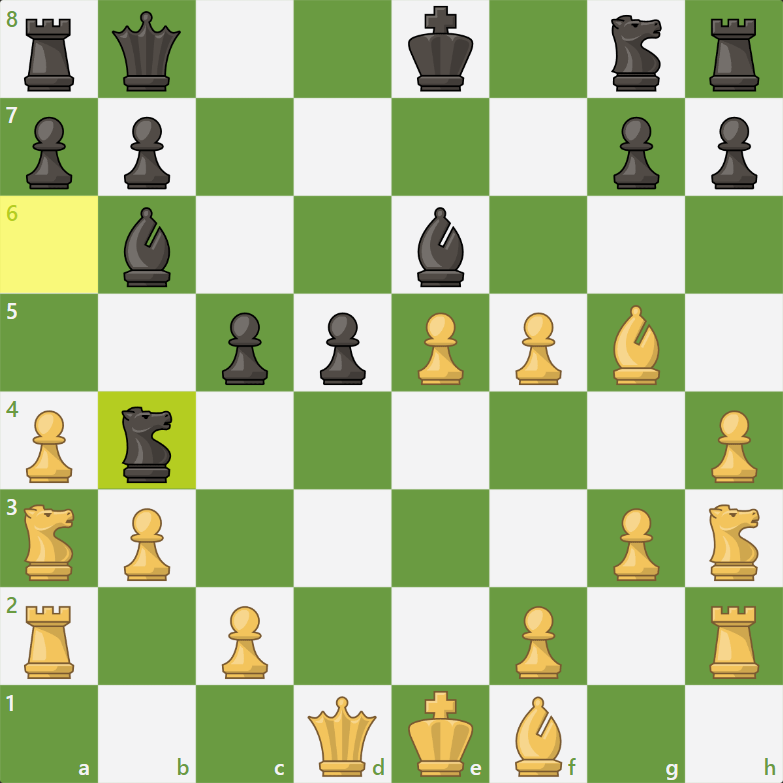B: (510, 695, 567, 781), (609, 303, 664, 387)
K: (407, 688, 475, 779)
N: (703, 501, 766, 584), (19, 503, 79, 583)
P: (219, 603, 272, 682), (709, 408, 762, 486), (512, 311, 566, 387), (414, 310, 468, 386), (122, 506, 173, 584), (514, 605, 566, 681), (611, 506, 662, 583), (23, 410, 75, 485)
Q: (307, 694, 379, 779)
R: (19, 603, 81, 682), (705, 603, 766, 682)
b: (411, 205, 471, 290), (119, 204, 174, 289)
k: (405, 3, 476, 94)
n: (605, 11, 669, 94), (116, 404, 179, 486)
p: (219, 310, 270, 387), (317, 309, 368, 386), (610, 114, 661, 191), (708, 114, 759, 191), (121, 113, 172, 190), (24, 114, 75, 191)
q: (109, 8, 182, 94)
r: (706, 16, 766, 94), (19, 15, 78, 94)
